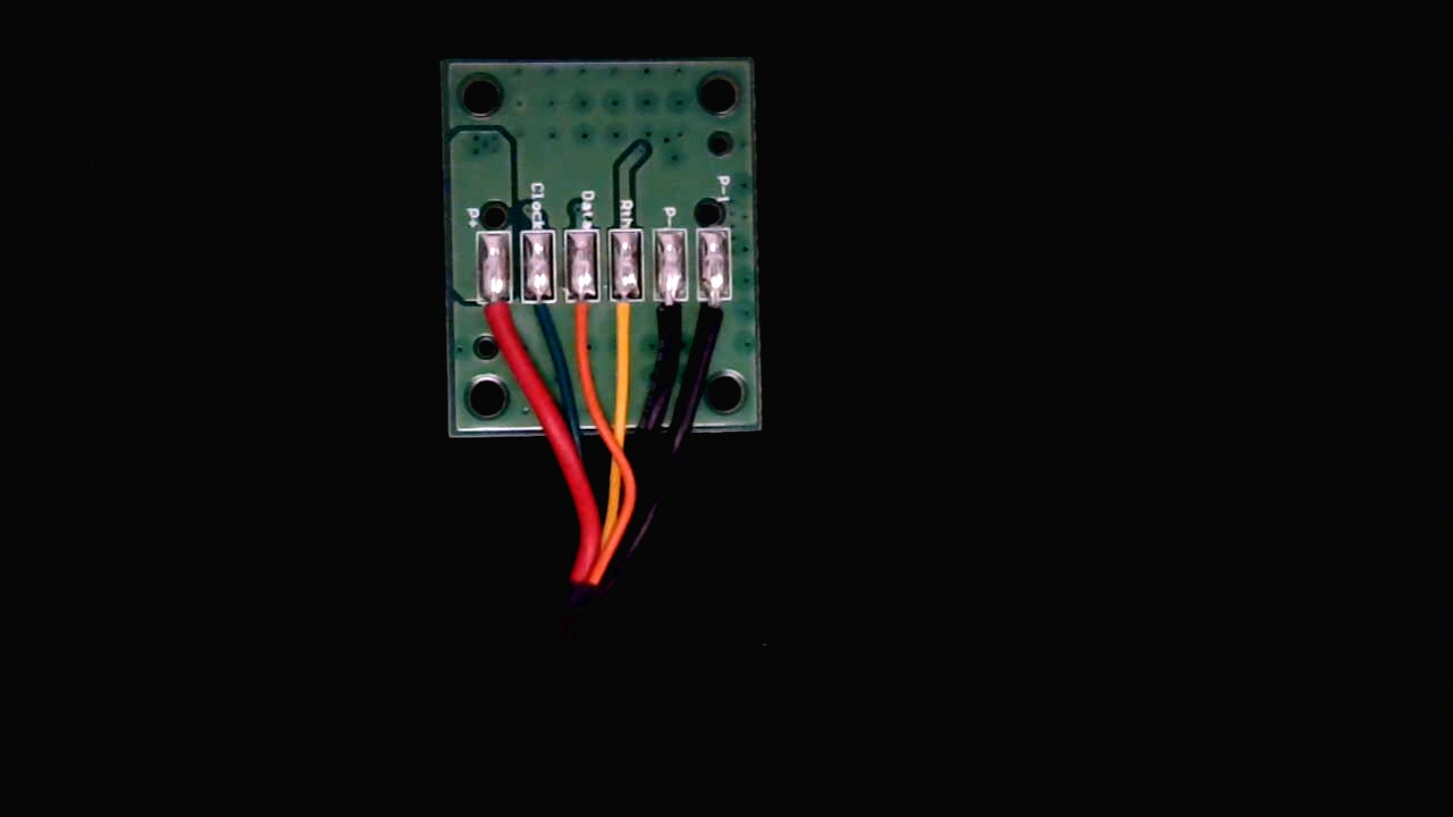Black: (655, 286, 698, 360)
Black1: (704, 284, 743, 361)
Green: (527, 284, 561, 351)
Orange: (570, 286, 606, 356)
Red: (480, 287, 518, 354)
Yellow: (613, 285, 651, 361)
